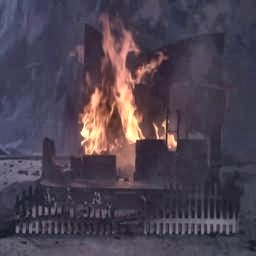fire: (62, 13, 187, 162)
